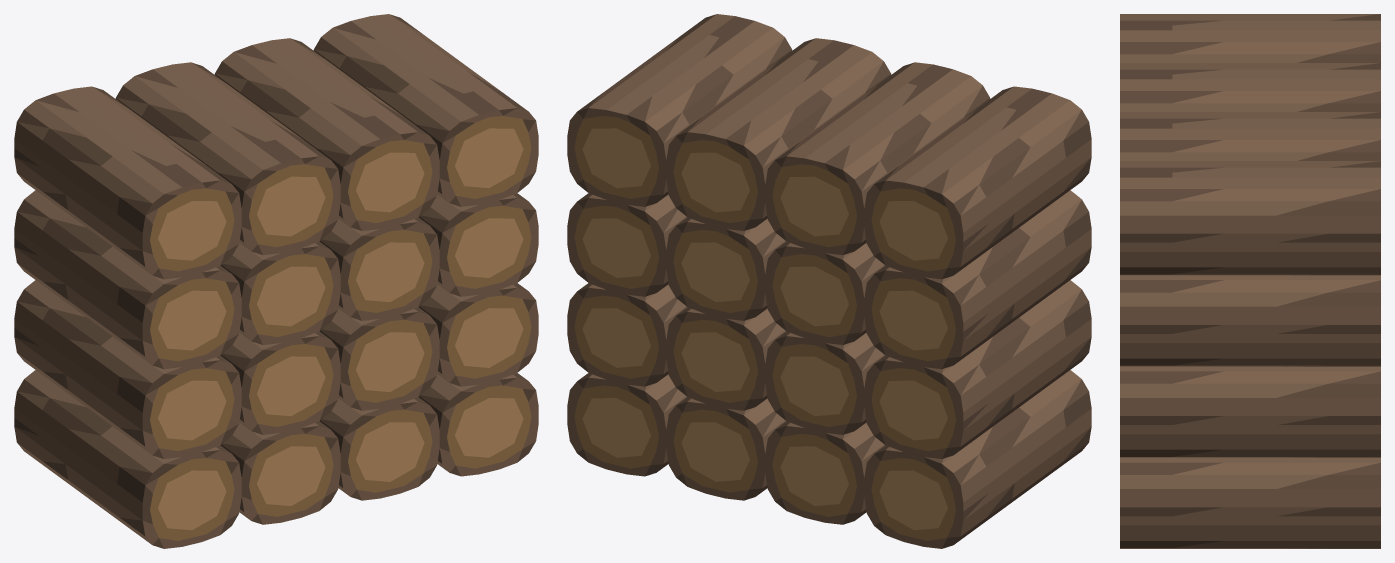
Rendered from proyectil.fbx.
The picture shows the model from 3 angles, left to right: view 1: azimuth 30°, elevation 25°; view 2: azimuth 150°, elevation 25°; view 3: azimuth 270°, elevation 25°; orthographic projection.
Visible parts, largest first — view 1: proyectil.001, proyectil.009, proyectil.005, proyectil.013, proyectil.002, proyectil.004, proyectil.003, proyectil.007, proyectil.006, proyectil.012, proyectil.010, proyectil.015 (+4 smaller); view 2: proyectil.001, proyectil.009, proyectil.005, proyectil.013, proyectil.002, proyectil.004, proyectil.003, proyectil.007, proyectil.006, proyectil.012, proyectil.010, proyectil.015 (+4 smaller); view 3: proyectil.013, proyectil.014, proyectil.015, proyectil.016, proyectil.001, proyectil.005, proyectil.009.
Part boxes in pixels (bbox=[...]): proyectil.001: bbox=[14, 86, 241, 279]; proyectil.009: bbox=[214, 38, 439, 230]; proyectil.005: bbox=[115, 62, 340, 255]; proyectil.013: bbox=[313, 14, 538, 206]; proyectil.002: bbox=[14, 190, 241, 369]; proyectil.004: bbox=[14, 370, 241, 548]; proyectil.003: bbox=[14, 280, 241, 458]; proyectil.007: bbox=[220, 331, 340, 434]; proyectil.006: bbox=[220, 241, 340, 344]; proyectil.012: bbox=[319, 397, 439, 500]; proyectil.010: bbox=[319, 217, 439, 320]; proyectil.015: bbox=[418, 283, 538, 386]; proyectil.001: bbox=[864, 86, 1091, 279]; proyectil.009: bbox=[666, 38, 891, 230]; proyectil.005: bbox=[765, 62, 990, 255]; proyectil.013: bbox=[567, 14, 792, 206]; proyectil.002: bbox=[864, 190, 1091, 369]; proyectil.004: bbox=[864, 370, 1091, 548]; proyectil.003: bbox=[864, 280, 1091, 458]; proyectil.007: bbox=[765, 331, 885, 434]; proyectil.006: bbox=[765, 241, 885, 344]; proyectil.012: bbox=[666, 397, 786, 500]; proyectil.010: bbox=[666, 217, 786, 320]; proyectil.015: bbox=[567, 283, 687, 386]; proyectil.013: bbox=[1120, 161, 1380, 275]; proyectil.014: bbox=[1120, 275, 1380, 366]; proyectil.015: bbox=[1120, 366, 1380, 457]; proyectil.016: bbox=[1120, 457, 1380, 548]; proyectil.001: bbox=[1120, 14, 1380, 62]; proyectil.005: bbox=[1120, 63, 1380, 111]; proyectil.009: bbox=[1120, 112, 1380, 160].
Size of the model in its own units: 178 by 154 by 100.
